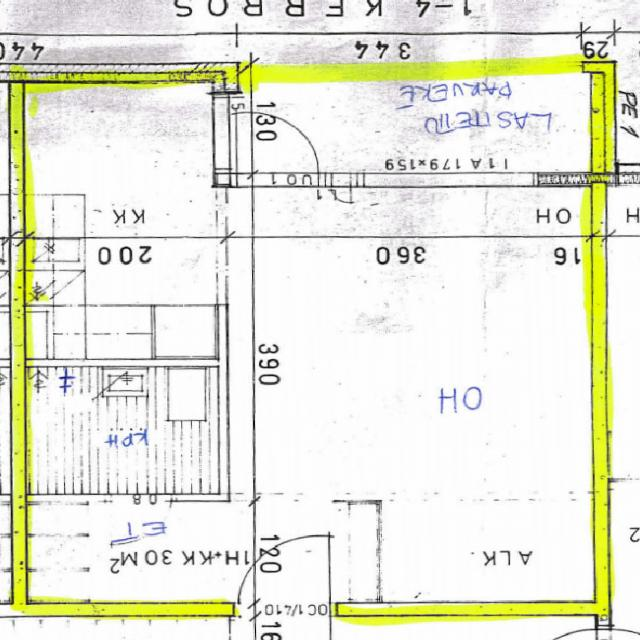door: (240, 528, 330, 616), (241, 111, 317, 186), (108, 494, 172, 554)
